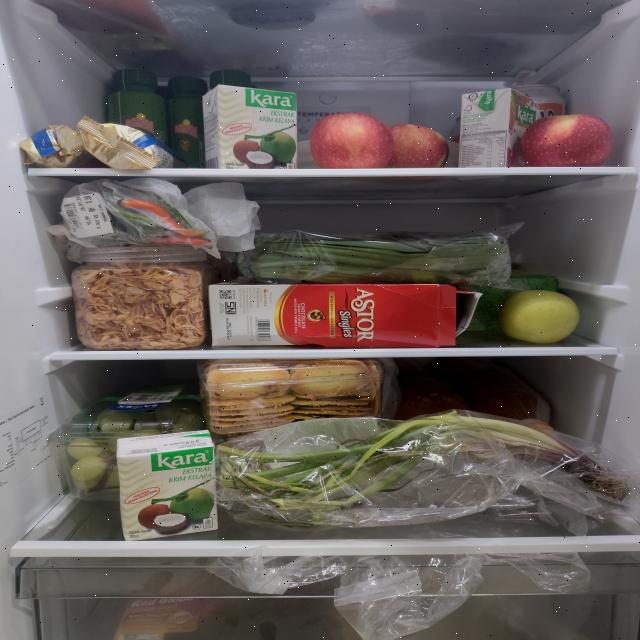apple: (309, 112, 449, 168), (520, 114, 612, 168), (497, 290, 581, 344)
chili: (116, 180, 212, 247)
coconut_milk: (116, 429, 218, 541), (202, 84, 298, 170), (458, 88, 540, 168)
grape: (67, 406, 205, 489)
leafy_greens: (250, 230, 510, 286)
spring_onion: (218, 409, 626, 525)
